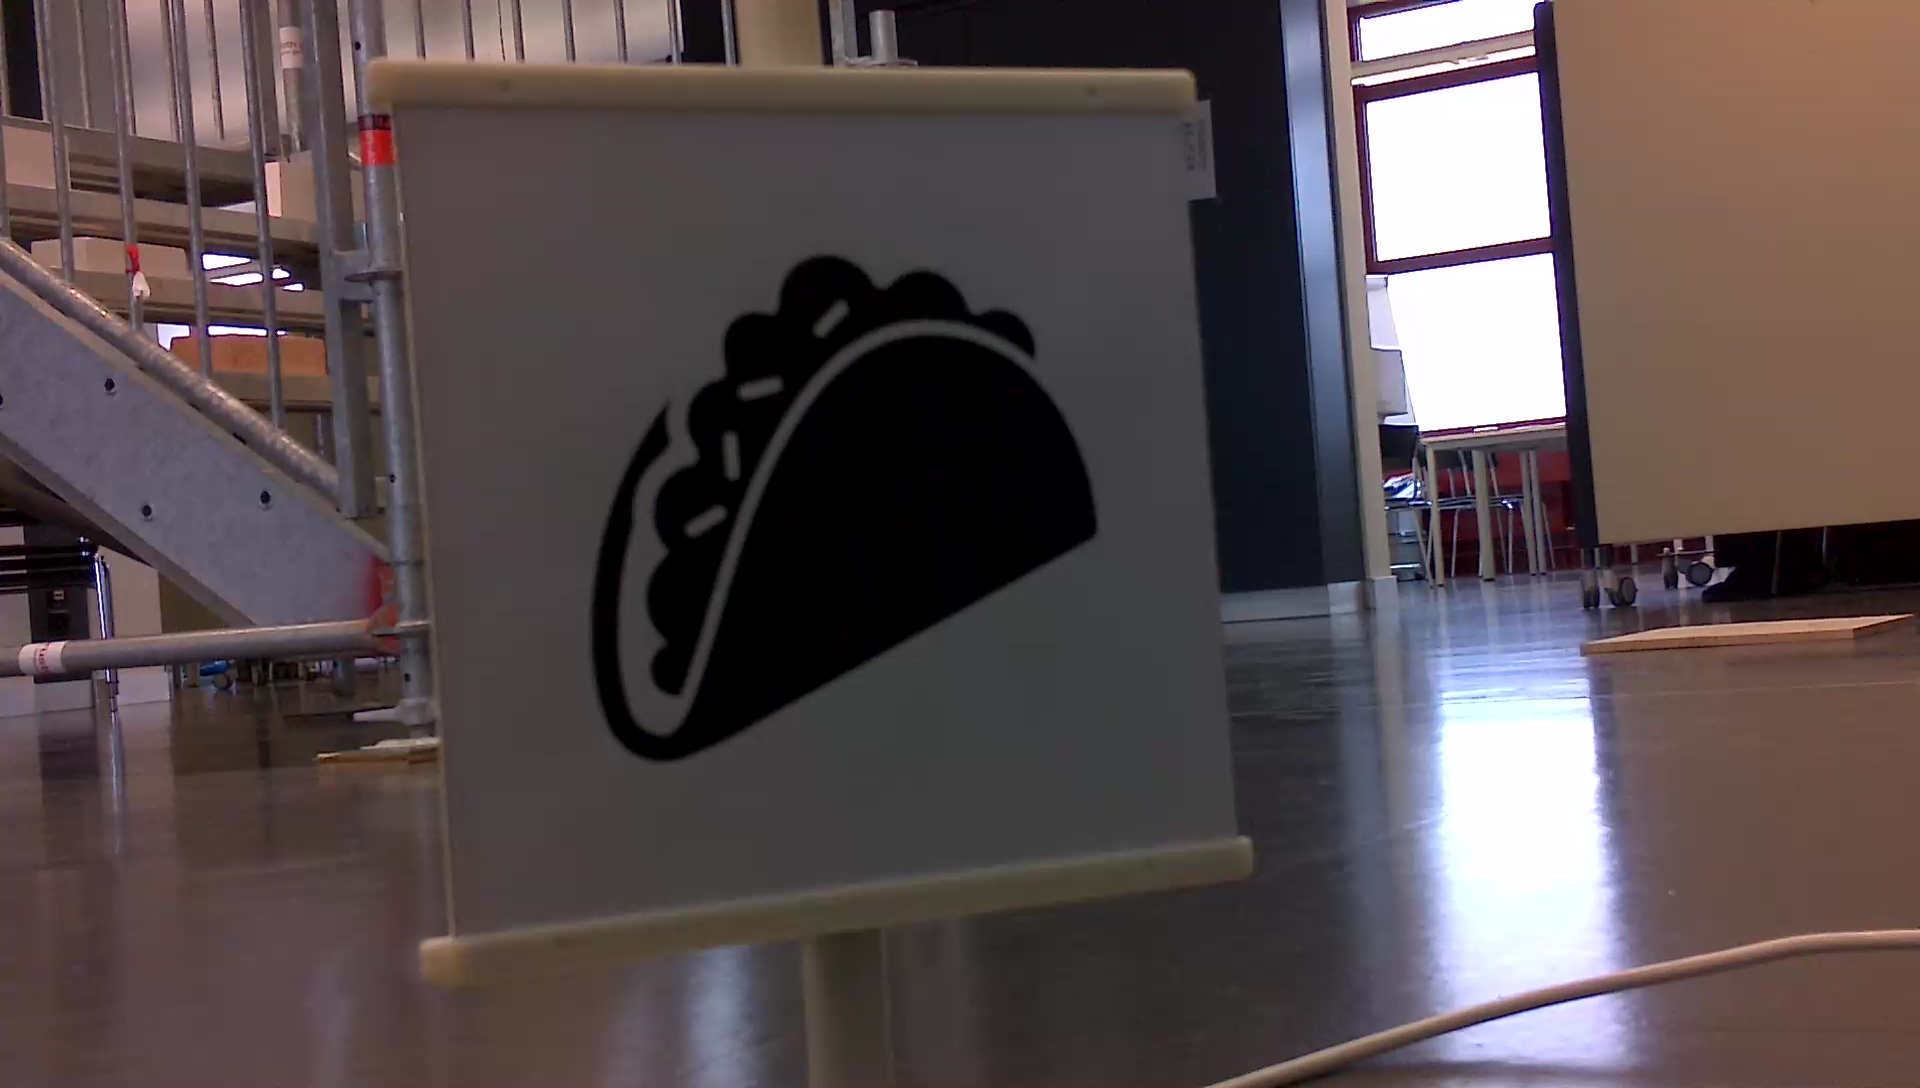taco: (572, 240, 1108, 773)
